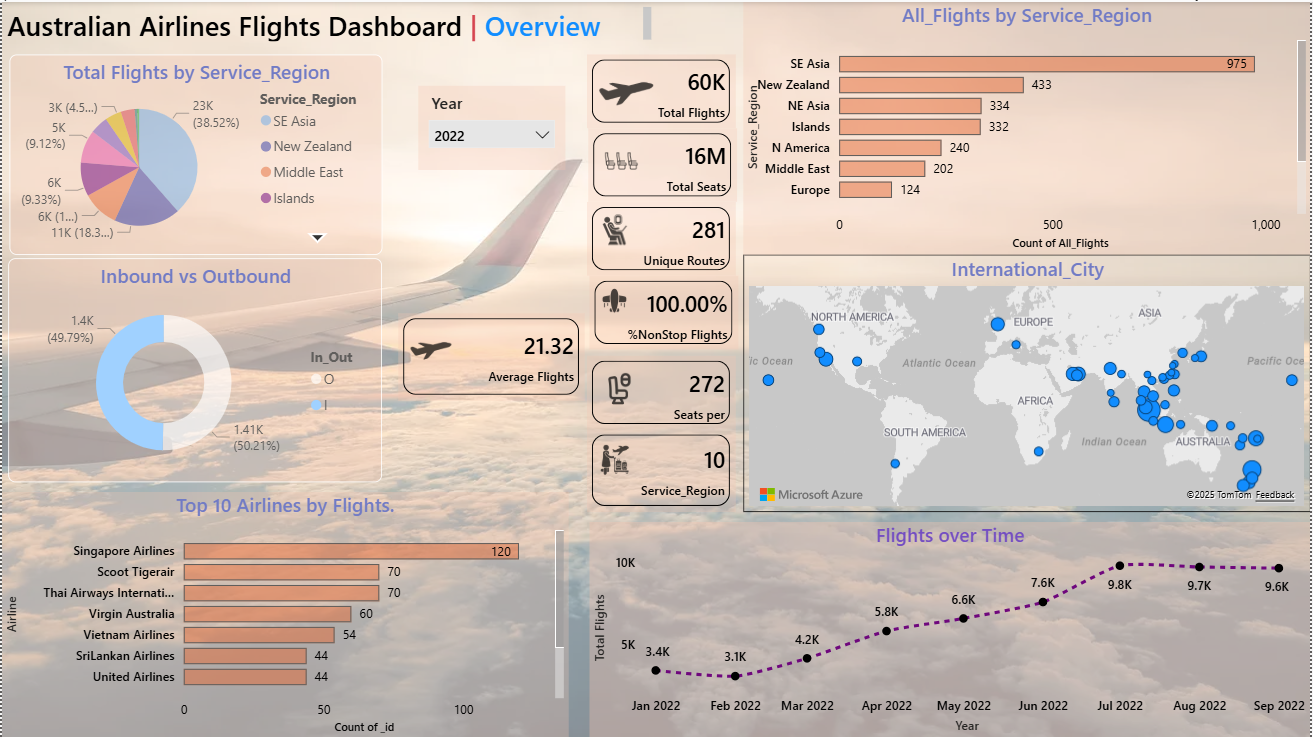

This screenshot's page, from the dashboard's own definition file:
{"tool":"powerbi","page":{"name":"Overview Dashboard","canvas":[1280,720],"ordinal":0},"visuals":[{"type":"azureMap","title":"International_City","fields":{"Category":["Flights.International_City"],"Size":["Flights.Total Flights"]},"box":[725.1,247,555.2,251.9],"z":0},{"type":"donutChart","title":"Inbound vs Outbound","fields":{"Category":["Flights.In_Out"],"Y":["CountNonNull(Flights.In_Out)"]},"box":[6.1,250.7,365.6,218.9],"z":1000},{"type":"lineChart","title":"Flights over Time","fields":{"Y":["Flights.Total Flights"],"Category":["Flights.Date.Variation.Date Hierarchy.Year","Flights.Date.Variation.Date Hierarchy.Quarter","Flights.Date.Variation.Date Hierarchy.Month","Flights.Date.Variation.Date Hierarchy.Day"]},"box":[574.7,508.7,705.6,211.6],"z":2000},{"type":"barChart","title":"All_Flights by Service_Region","fields":{"Category":["Flights.Service_Region"],"Y":["CountNonNull(Flights.All_Flights)"]},"box":[725.1,0,555.2,247],"z":3000},{"type":"cardVisual","fields":{"Data":["Flights.Total Flights"]},"box":[572.3,51.4,145.5,72.1],"z":4000},{"type":"slicer","title":"Year","fields":{"Values":["Flights.Year"]},"box":[407.5,82.5,143.8,82.5],"z":5000},{"type":"textbox","box":[0,0,640,43.8],"z":6000},{"type":"barChart","title":"Top 10 Airlines by Flights.","fields":{"Y":["Count(Flights._id)"],"Category":["Flights.Airline"]},"box":[0,478.9,554.4,241.5],"z":7000},{"type":"cardVisual","fields":{"Data":["Flights.Total Seats"]},"box":[573.5,123.5,145.5,72.1],"z":8000},{"type":"cardVisual","fields":{"Data":["Flights.Unique Routes"]},"box":[572.3,195.7,145.5,72.1],"z":9000},{"type":"cardVisual","fields":{"Data":["Count(Flights.Service_Region)"]},"box":[572.3,418.2,145.5,80.7],"z":10000},{"type":"cardVisual","fields":{"Data":["Flights.Seats per Flight"]},"box":[572.3,346.1,145.5,72.1],"z":11000},{"type":"cardVisual","fields":{"Data":["Flights.NonStop Flights"]},"box":[574.7,267.8,145.5,72.1],"z":12000},{"type":"cardVisual","fields":{"Data":["Flights.Average Flights"]},"box":[387.6,304.5,182.2,85.6],"z":13000},{"type":"pieChart","fields":{"Category":["Flights.Service_Region"],"Y":["Flights.Total Flights"]},"box":[7.5,51.2,365,196.2],"z":14000}]}

Visuals, with their boxes in screenshot pixels (x1, y1, x2, y2), scaled from the page's 1280x720 canvas onto the 1313x737 screenshot:
"International_City" azureMap: {"x1": 744, "y1": 253, "x2": 1312, "y2": 511}
"Inbound vs Outbound" donutChart: {"x1": 6, "y1": 257, "x2": 381, "y2": 481}
"Flights over Time" lineChart: {"x1": 590, "y1": 521, "x2": 1312, "y2": 736}
"All_Flights by Service_Region" barChart: {"x1": 744, "y1": 0, "x2": 1312, "y2": 253}
cardVisual - Flights.Total Flights: {"x1": 587, "y1": 53, "x2": 736, "y2": 126}
"Year" slicer: {"x1": 418, "y1": 84, "x2": 566, "y2": 169}
textbox: {"x1": 0, "y1": 0, "x2": 656, "y2": 45}
"Top 10 Airlines by Flights." barChart: {"x1": 0, "y1": 490, "x2": 569, "y2": 736}
cardVisual - Flights.Total Seats: {"x1": 588, "y1": 126, "x2": 738, "y2": 200}
cardVisual - Flights.Unique Routes: {"x1": 587, "y1": 200, "x2": 736, "y2": 274}
cardVisual - Count(Flights.Service_Region): {"x1": 587, "y1": 428, "x2": 736, "y2": 511}
cardVisual - Flights.Seats per Flight: {"x1": 587, "y1": 354, "x2": 736, "y2": 428}
cardVisual - Flights.NonStop Flights: {"x1": 590, "y1": 274, "x2": 739, "y2": 348}
cardVisual - Flights.Average Flights: {"x1": 398, "y1": 312, "x2": 584, "y2": 399}
pieChart - Flights.Service_Region x Flights.Total Flights: {"x1": 8, "y1": 52, "x2": 382, "y2": 253}
